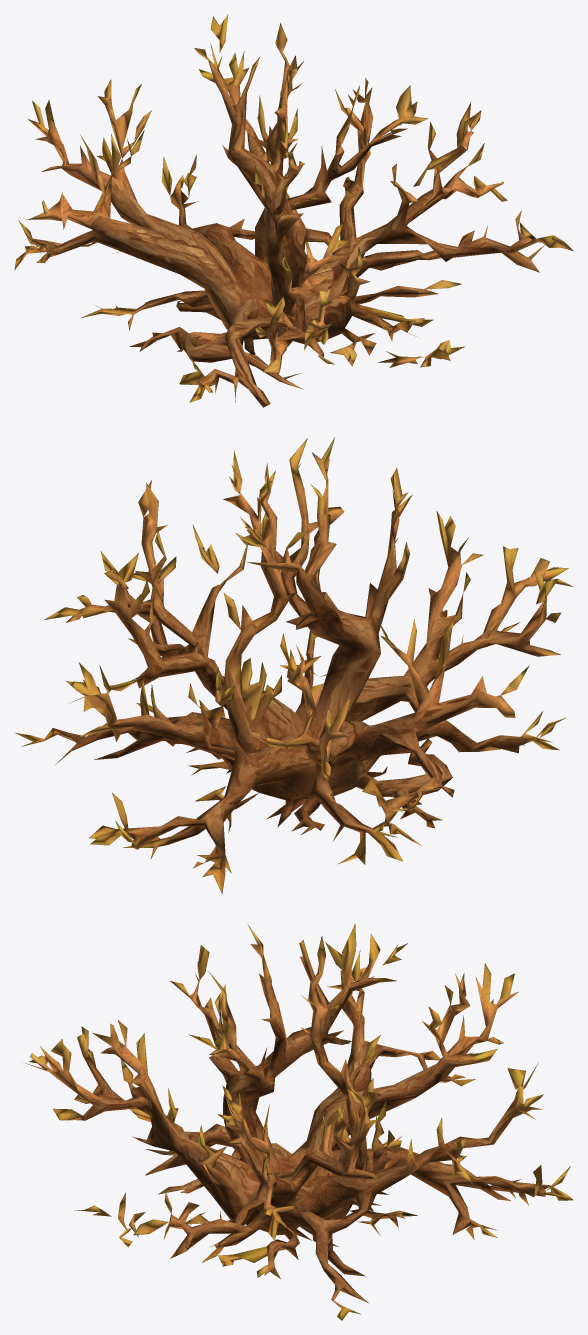
File: Meshy_AI_Golden_Branches_0512182144_texture.fbx
3 renders of one model, top to bottom at view 1: azimuth 30°, elevation 25°; view 2: azimuth 150°, elevation 25°; view 3: azimuth 270°, elevation 25°, orthographic. The views are drawn at different scales.
Visible parts, largest first — view 1: Mesh_0; view 2: Mesh_0; view 3: Mesh_0.
Part boxes in pixels (x1,y1,x2,y2): Mesh_0: (14, 14, 573, 407); Mesh_0: (15, 437, 573, 893); Mesh_0: (25, 924, 573, 1320).
Bounding box in the file's own units: 178 × 110 × 191.
Materials: 1 (1 with a texture image).
